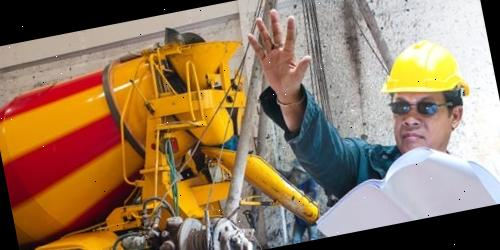helmet: (372, 32, 470, 113)
